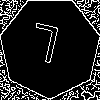L: (25, 22, 62, 73)
